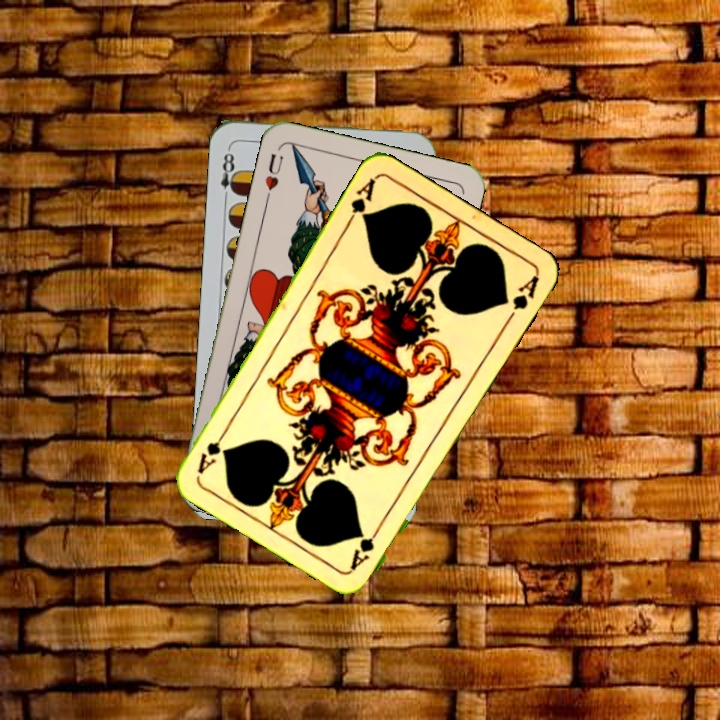E8: (217, 144, 242, 203)
GA: (346, 519, 385, 572), (342, 173, 378, 228)
HU: (261, 150, 286, 203)
